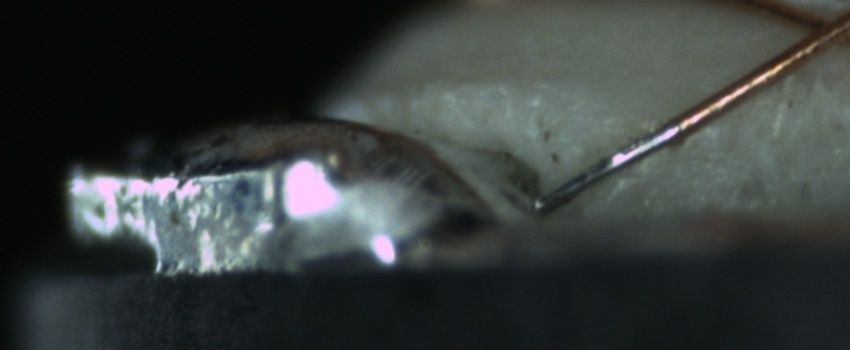CL: (782, 1, 849, 59)
TS: (529, 118, 678, 214)
